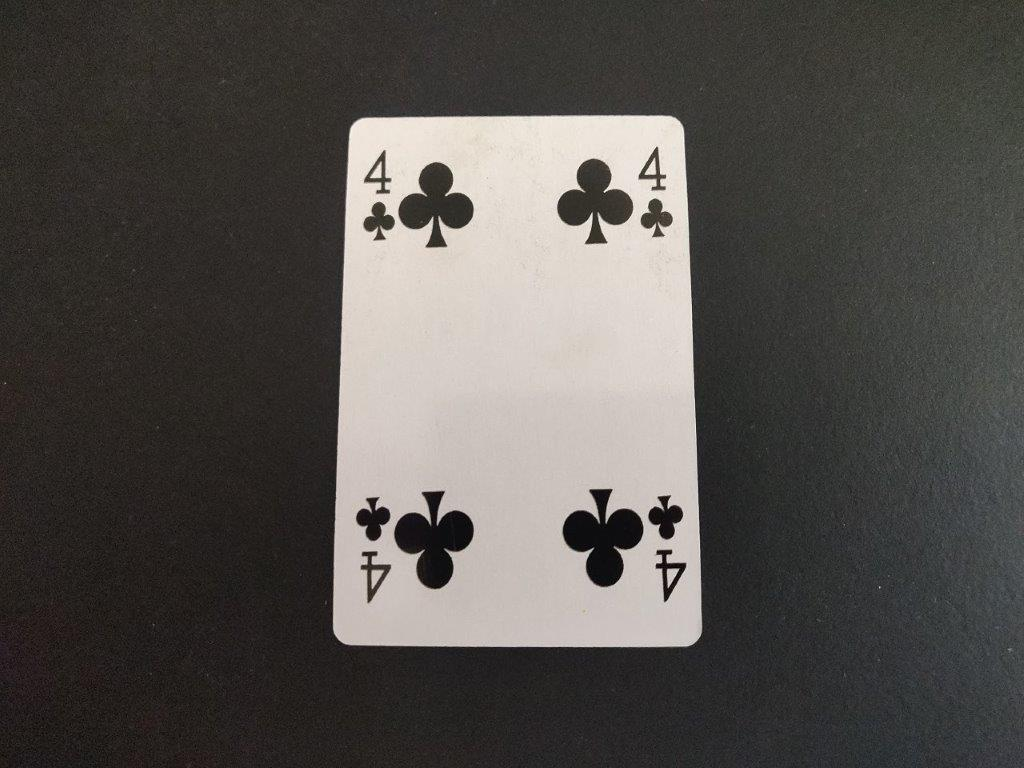4C: (635, 142, 679, 251), (358, 141, 400, 249)
